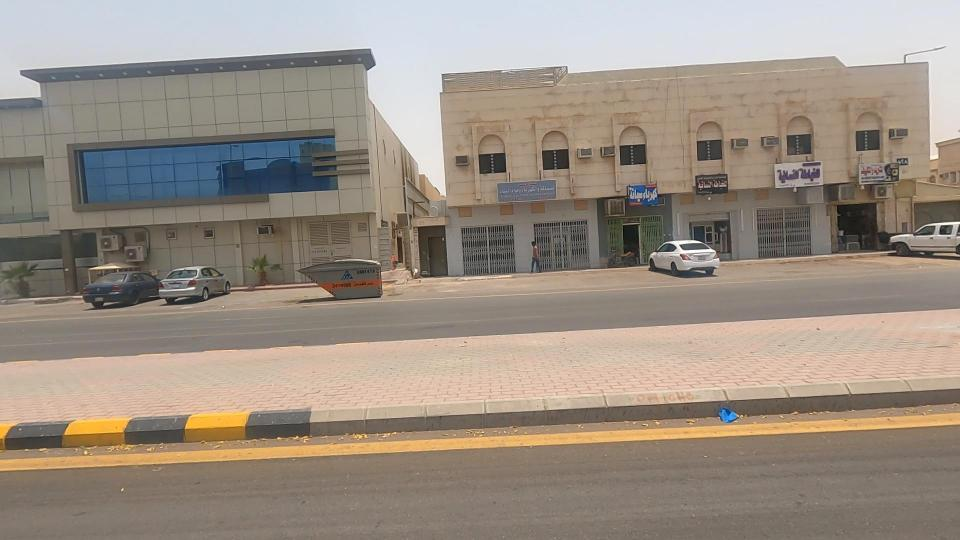BAD_BILLBOARD: (457, 150, 609, 243), (672, 365, 788, 459)
